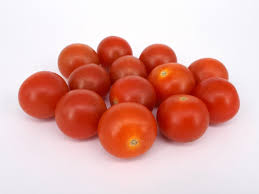tomato: (102, 101, 159, 160), (15, 71, 70, 121), (162, 96, 210, 146), (196, 80, 246, 123), (62, 90, 105, 135), (152, 58, 190, 99), (112, 74, 155, 110)
